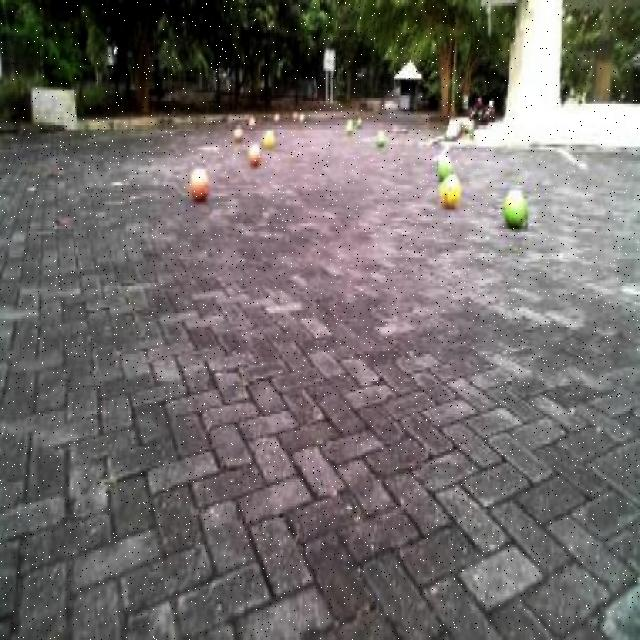buoy: (180, 155, 214, 218), (499, 176, 535, 235), (434, 161, 464, 217), (242, 136, 266, 174), (258, 121, 277, 151), (433, 148, 453, 176), (230, 116, 244, 146), (376, 124, 388, 154)
